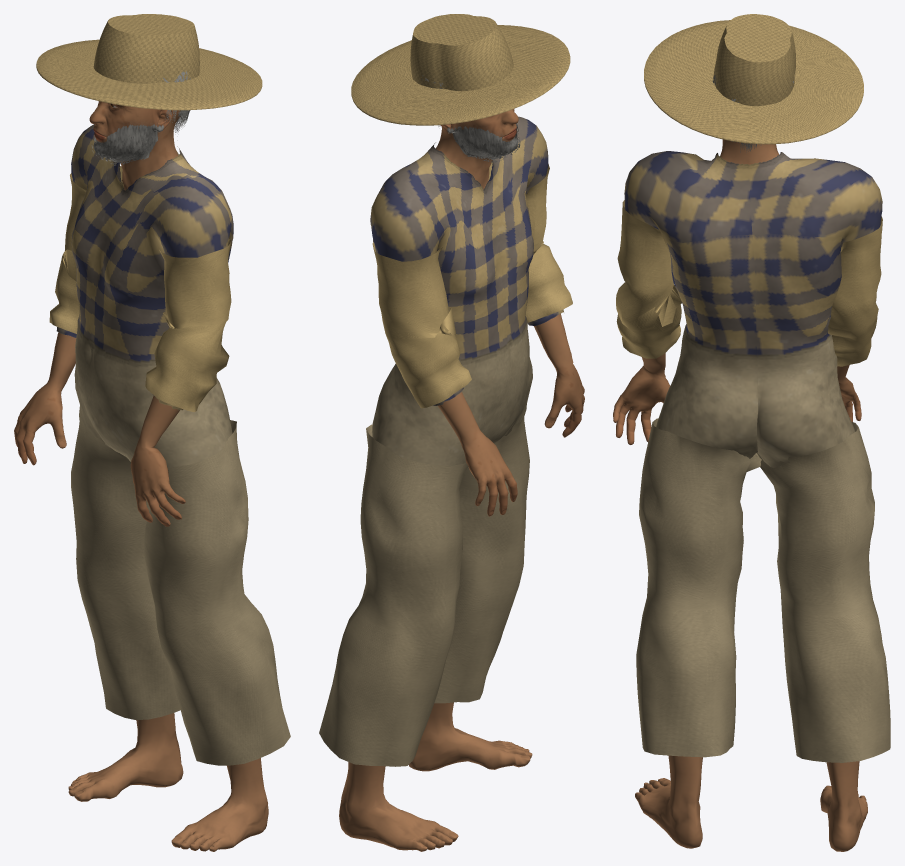
Rendered from SM_Art_Person_fisherman.gltf.
3 views of the same model, side by side, from view 1: azimuth 30°, elevation 25°; view 2: azimuth 150°, elevation 25°; view 3: azimuth 270°, elevation 25° (orthographic). The views are drawn at different scales.
Visible parts, largest first — view 1: SM_Art_Person_fisherman; view 2: SM_Art_Person_fisherman; view 3: SM_Art_Person_fisherman.
Part boxes in pixels (bbox=[...]): SM_Art_Person_fisherman: bbox=[14, 14, 290, 851]; SM_Art_Person_fisherman: bbox=[319, 14, 584, 851]; SM_Art_Person_fisherman: bbox=[613, 14, 890, 851].
Bounding box in the file's own units: 0.4482 × 1.78 × 0.5654.
Materials: 15 (15 with a texture image).
